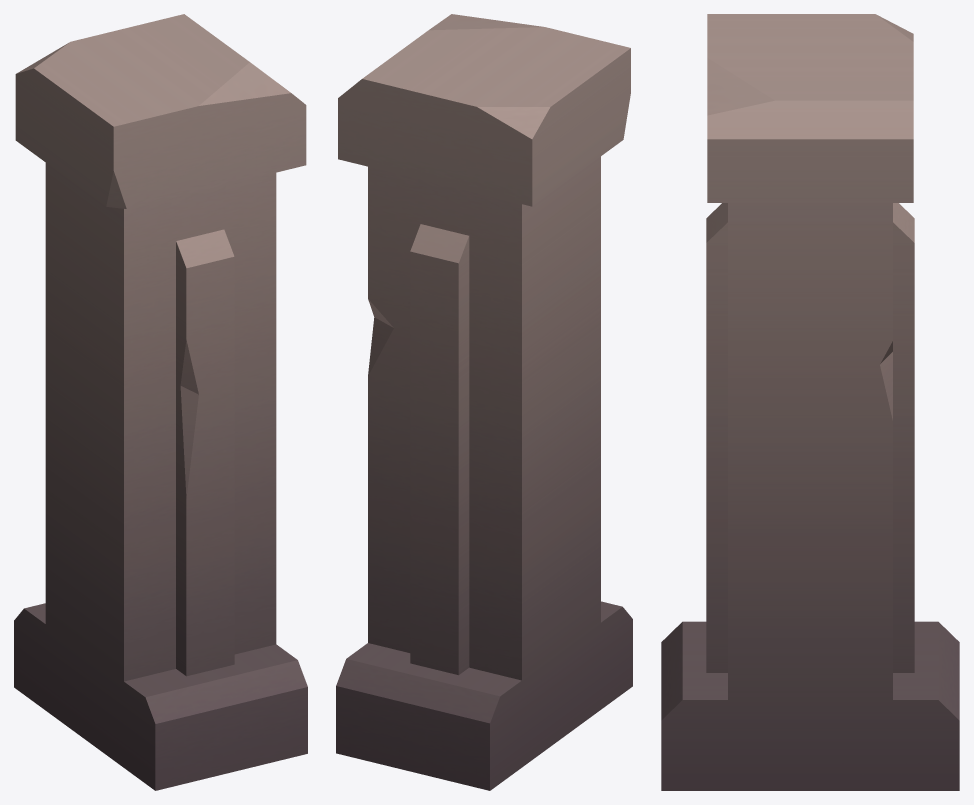
File: fenceAPillar4.glb
The picture shows the model from 3 angles, left to right: view 1: azimuth 30°, elevation 25°; view 2: azimuth 150°, elevation 25°; view 3: azimuth 270°, elevation 25°; orthographic projection. The views are drawn at different scales.
Visible parts, largest first — view 1: fenceAPillar4; view 2: fenceAPillar4; view 3: fenceAPillar4.
Part boxes in pixels (bbox=[...]): fenceAPillar4: bbox=[14, 14, 307, 790]; fenceAPillar4: bbox=[336, 14, 632, 790]; fenceAPillar4: bbox=[661, 14, 959, 790].
Size of the model in its own units: 0.6407 by 2.08 by 0.8154.
Materials: 1 (1 with a texture image).
